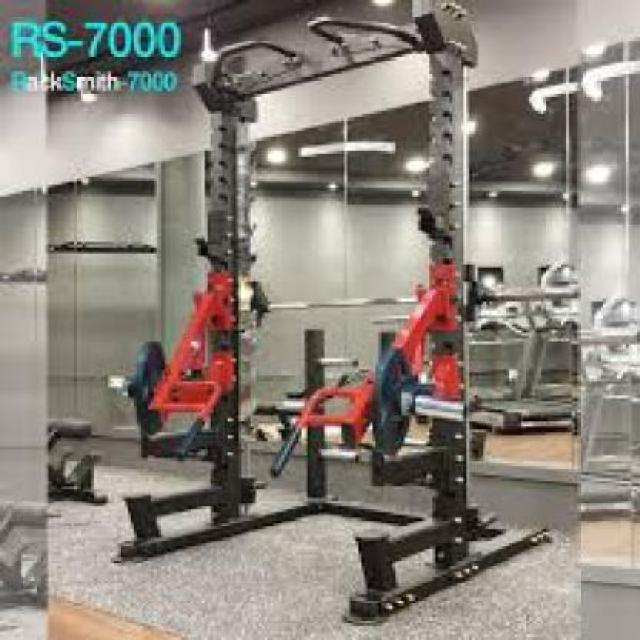smith machine: (182, 1, 483, 628)
